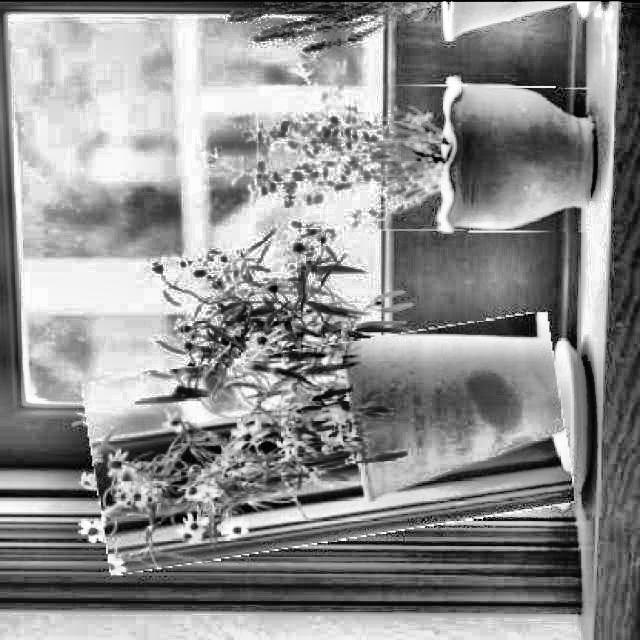plants: (88, 326, 570, 557), (258, 82, 591, 230)
